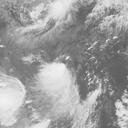cyclone: (34, 63, 83, 118)
